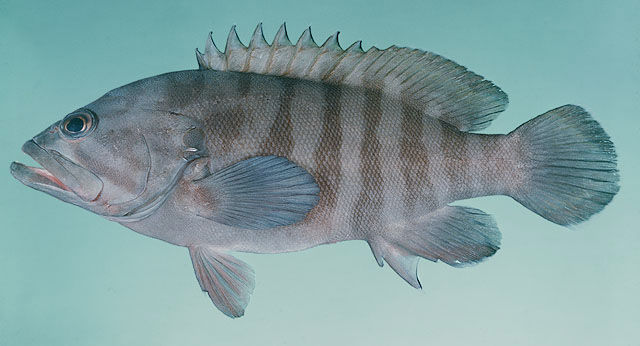fish: (11, 21, 620, 319)
